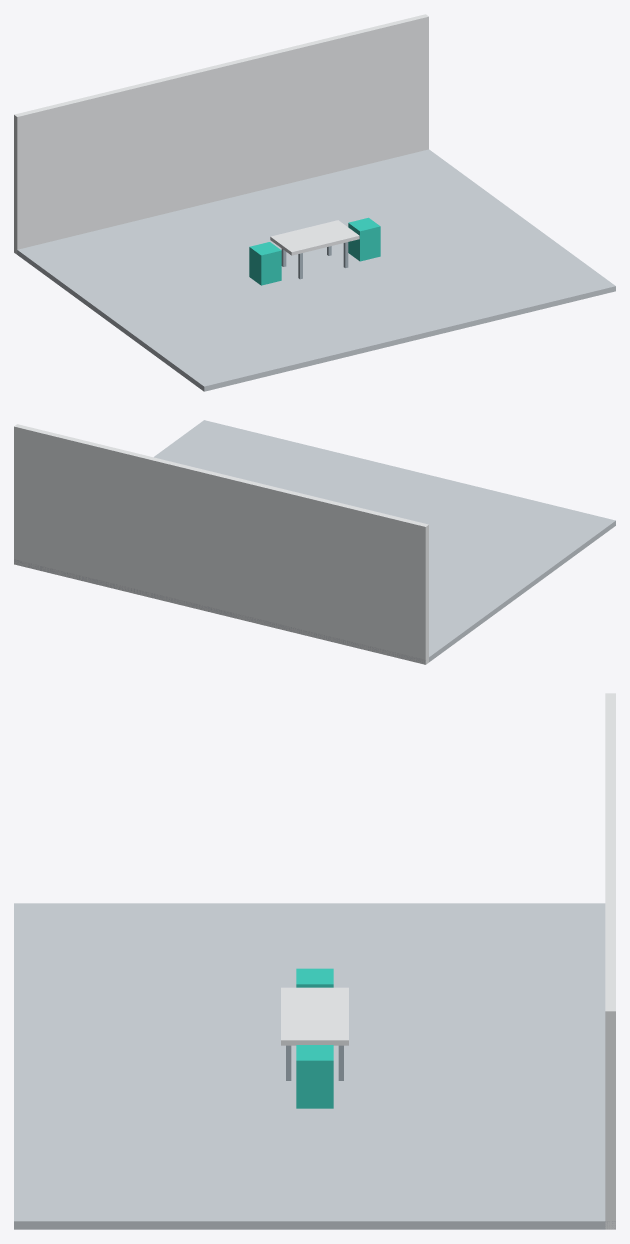
3 renders of one model, top to bottom at view 1: azimuth 30°, elevation 25°; view 2: azimuth 150°, elevation 25°; view 3: azimuth 270°, elevation 25°, orthographic. The views are drawn at different scales.
Parts seen in each view (by area): view 1: Exhibition Booth Concept; view 2: Exhibition Booth Concept; view 3: Exhibition Booth Concept.
Boxes of the visible parts, x1,y1,x2,y2 form: Exhibition Booth Concept: (14,14,615,391); Exhibition Booth Concept: (14,420,615,664); Exhibition Booth Concept: (14,693,615,1229).
Bounding box in the file's own units: 10 × 3.2 × 8.
